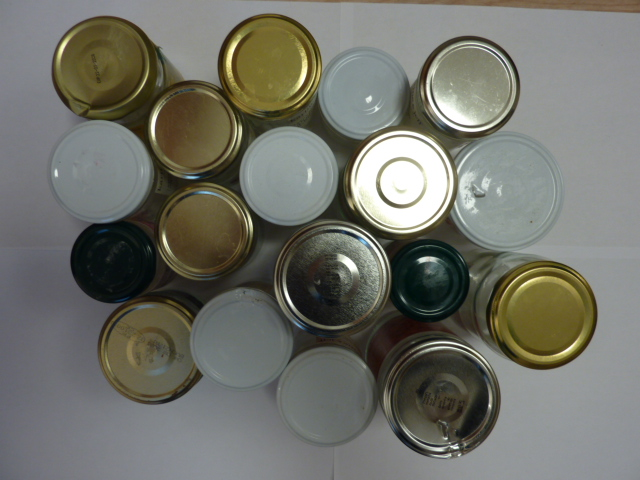damaged: (450, 136, 562, 250), (190, 288, 293, 391)
intact: (274, 221, 391, 336), (216, 10, 324, 116), (94, 300, 201, 404), (48, 119, 152, 221), (416, 34, 520, 134), (238, 128, 340, 226), (276, 350, 377, 446), (158, 184, 253, 280), (316, 47, 413, 140), (68, 219, 157, 303)
